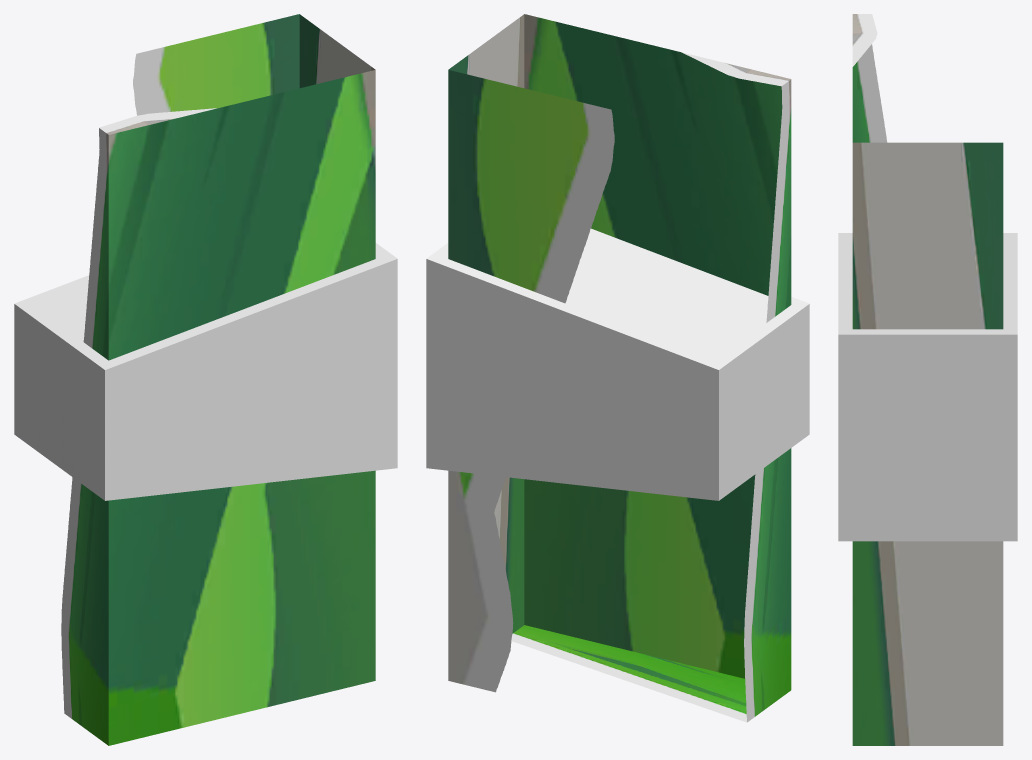
The model's file is Collectable_Coin_26.fbx.
3 views of the same model, side by side, from view 1: azimuth 30°, elevation 25°; view 2: azimuth 150°, elevation 25°; view 3: azimuth 270°, elevation 25° (orthographic).
Visible parts, largest first — view 1: MoneyStack; view 2: MoneyStack; view 3: MoneyStack.
Boxes of the visible parts, x1=… form: MoneyStack: x1=14, y1=14, x2=397, y2=745; MoneyStack: x1=426, y1=14, x2=809, y2=722; MoneyStack: x1=838, y1=14, x2=1017, y2=745.
Bounding box in the file's own units: 0.355 × 0.7082 × 0.1909.
